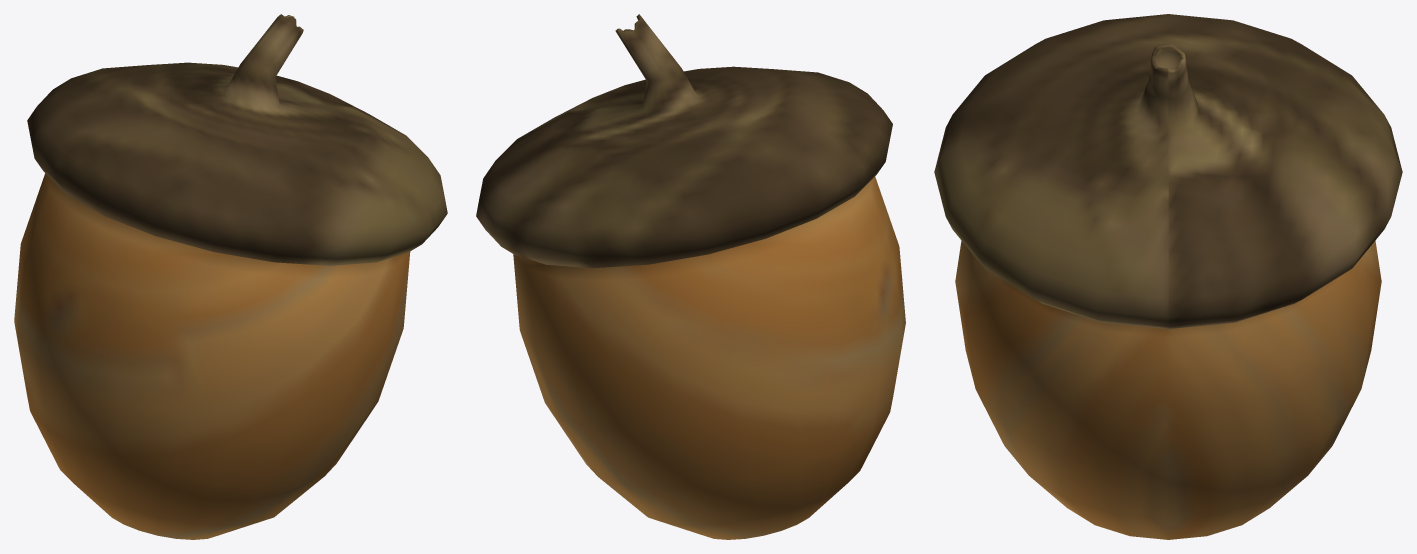
Rendered from Eikel.fbx.
3 renders of one model, left to right at view 1: azimuth 30°, elevation 25°; view 2: azimuth 150°, elevation 25°; view 3: azimuth 270°, elevation 25°, orthographic. The views are drawn at different scales.
Visible parts, largest first — view 1: Eikel; view 2: Eikel; view 3: Eikel.
Boxes of the visible parts, x1=… form: Eikel: x1=14, y1=14, x2=447, y2=539; Eikel: x1=476, y1=14, x2=905, y2=539; Eikel: x1=934, y1=14, x2=1402, y2=539.
Bounding box in the file's own units: 0.1922 × 0.2353 × 0.1887.
